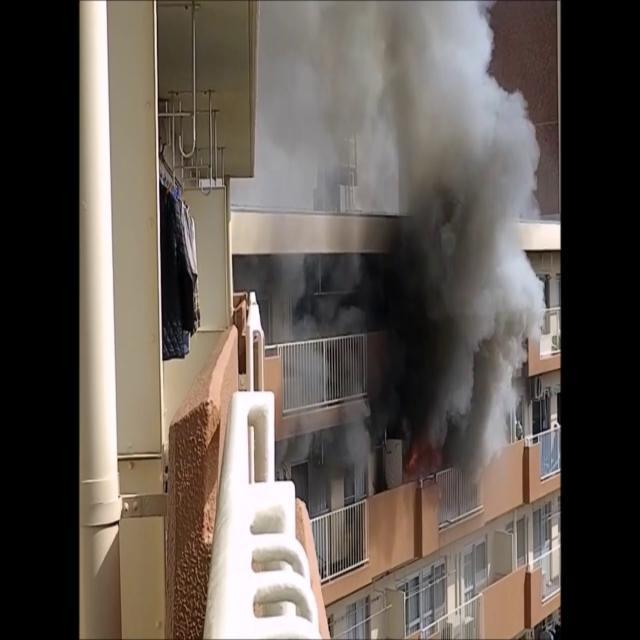Smoke: (260, 1, 544, 488)
